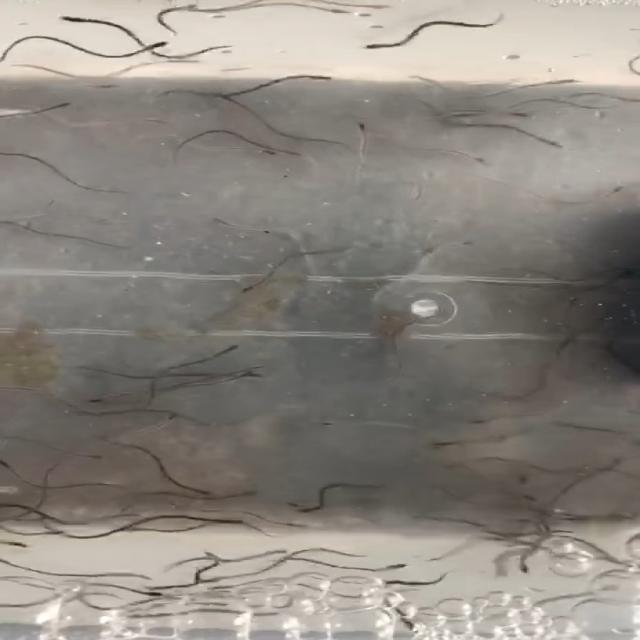active_glass_eel: (41, 12, 106, 29), (461, 148, 502, 172), (465, 524, 514, 544), (335, 39, 400, 54), (500, 104, 548, 124), (212, 336, 260, 356), (449, 412, 498, 431), (287, 68, 341, 85), (43, 511, 97, 528), (533, 134, 577, 154), (148, 2, 209, 16), (444, 236, 491, 254), (80, 447, 124, 466), (598, 179, 634, 202), (350, 115, 384, 139), (207, 208, 244, 230), (227, 277, 265, 298), (314, 416, 353, 435), (510, 560, 547, 580), (564, 417, 604, 435), (88, 78, 128, 95), (131, 36, 176, 51), (596, 451, 627, 472), (511, 484, 544, 503), (425, 432, 461, 449), (379, 560, 416, 576), (43, 97, 87, 110), (422, 552, 456, 568), (78, 392, 117, 405), (40, 523, 73, 538), (610, 509, 634, 528), (554, 74, 598, 84), (285, 145, 309, 163), (198, 548, 228, 562), (236, 486, 262, 502), (248, 142, 272, 159), (562, 89, 596, 101), (246, 369, 273, 384), (156, 409, 183, 424), (133, 571, 162, 584), (2, 537, 38, 547), (143, 590, 173, 602), (251, 609, 283, 620), (189, 483, 216, 496), (293, 506, 320, 519), (0, 457, 29, 469), (508, 471, 531, 486), (223, 515, 249, 527), (244, 360, 266, 374), (387, 577, 409, 591), (147, 582, 177, 592), (199, 572, 221, 585), (288, 524, 312, 535), (200, 599, 227, 608), (200, 584, 233, 591), (284, 500, 297, 511)
